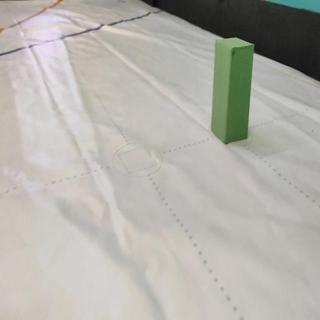greenbox: (211, 35, 255, 145)
